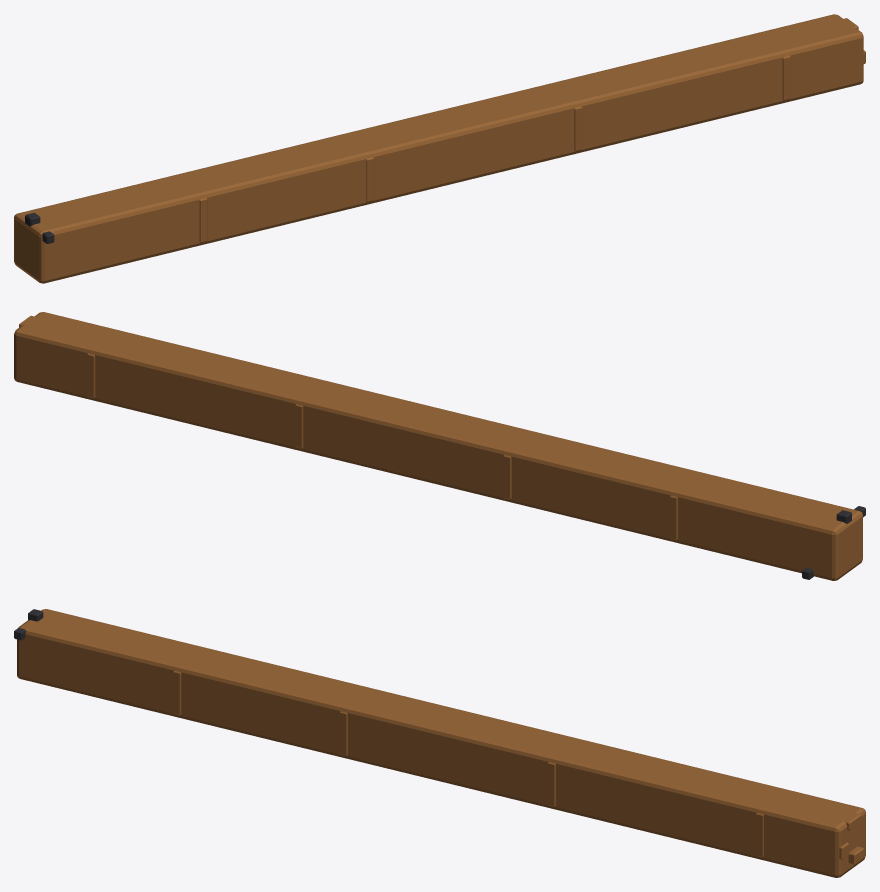
Rendered from board.obj.
3 views of the same model, one above another, from view 1: azimuth 30°, elevation 25°; view 2: azimuth 150°, elevation 25°; view 3: azimuth 330°, elevation 25° (orthographic).
Visible parts, largest first — view 1: Board; view 2: Board; view 3: Board.
Part boxes in pixels (x1,y1,x2,y2): Board: (14,14,865,283); Board: (14,312,865,580); Board: (14,609,865,877).
Size of the model in its own units: 3.99 by 0.3 by 0.3.
